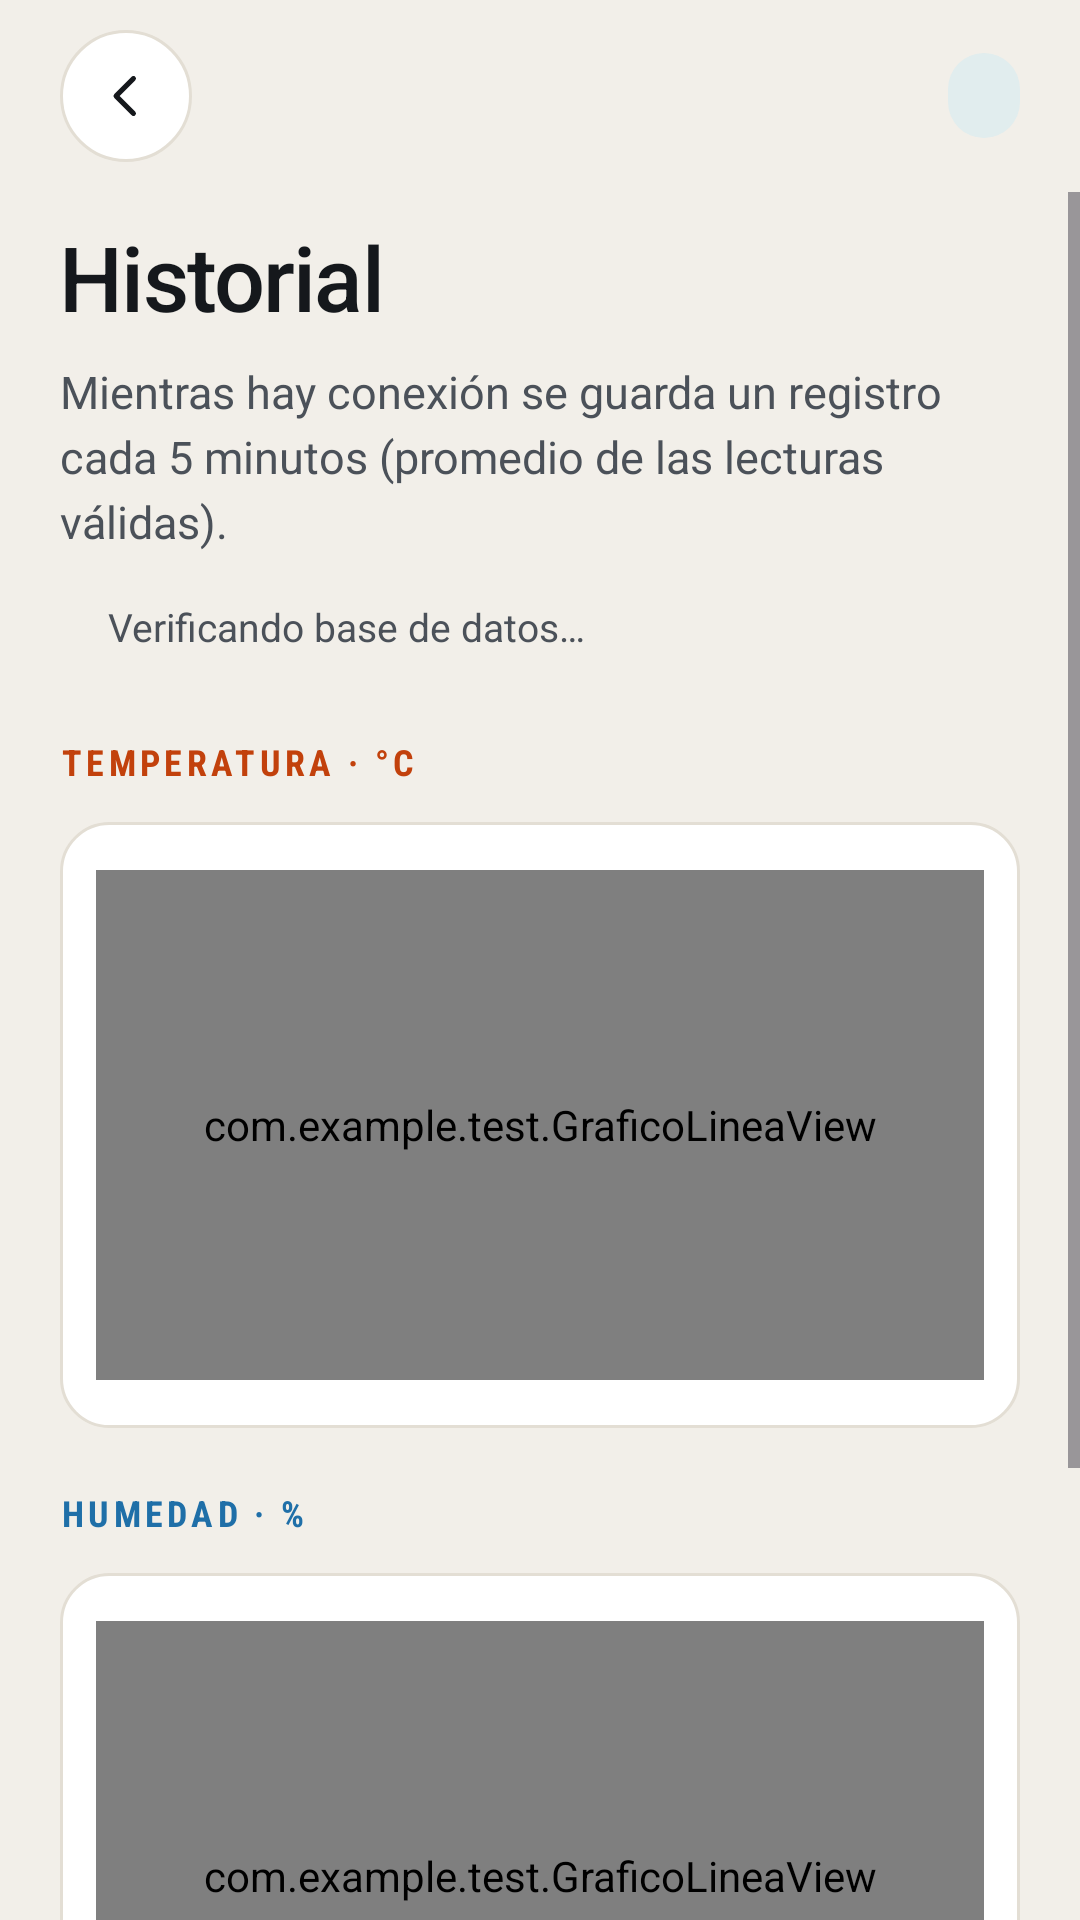

Icons on this 1080*1920 Android screen, each with its box as box=[x1, y1, x2, y2]:
Volver: box=[60, 30, 192, 162]
